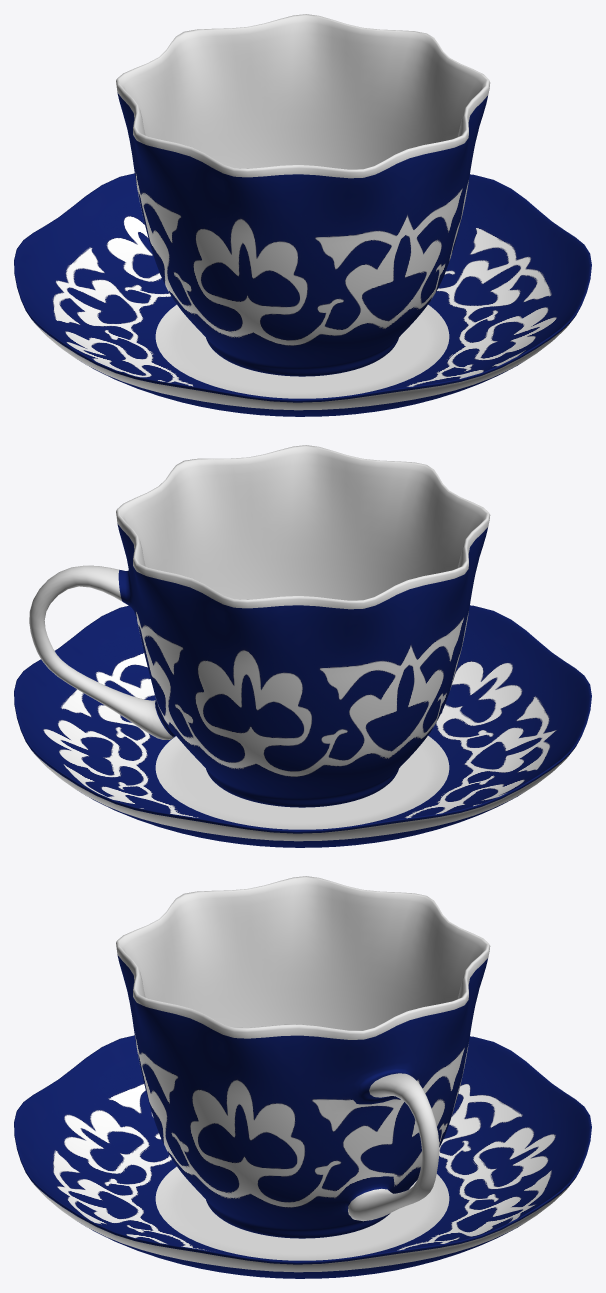
File: Cup_cotton.glb
3 views of the same model, one above another, from view 1: azimuth 30°, elevation 25°; view 2: azimuth 150°, elevation 25°; view 3: azimuth 270°, elevation 25° (orthographic).
Parts seen in each view (by area): view 1: Cup_cotton, Plate; view 2: Cup_cotton, Plate; view 3: Cup_cotton, Plate.
Boxes of the visible parts, x1=… form: Cup_cotton: x1=116, y1=14, x2=490, y2=376; Plate: x1=14, y1=173, x2=591, y2=416; Cup_cotton: x1=29, y1=445, x2=490, y2=807; Plate: x1=14, y1=605, x2=591, y2=847; Cup_cotton: x1=116, y1=876, x2=490, y2=1238; Plate: x1=14, y1=1035, x2=591, y2=1278.
Size of the model in its own units: 0.1965 by 0.0951 by 0.197.
Materials: 2 (1 with a texture image).
